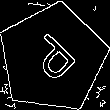P_SE: (22, 28, 83, 89)
